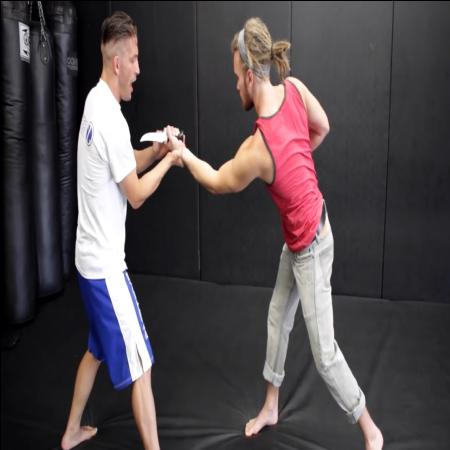long weapon: (136, 119, 187, 147)
